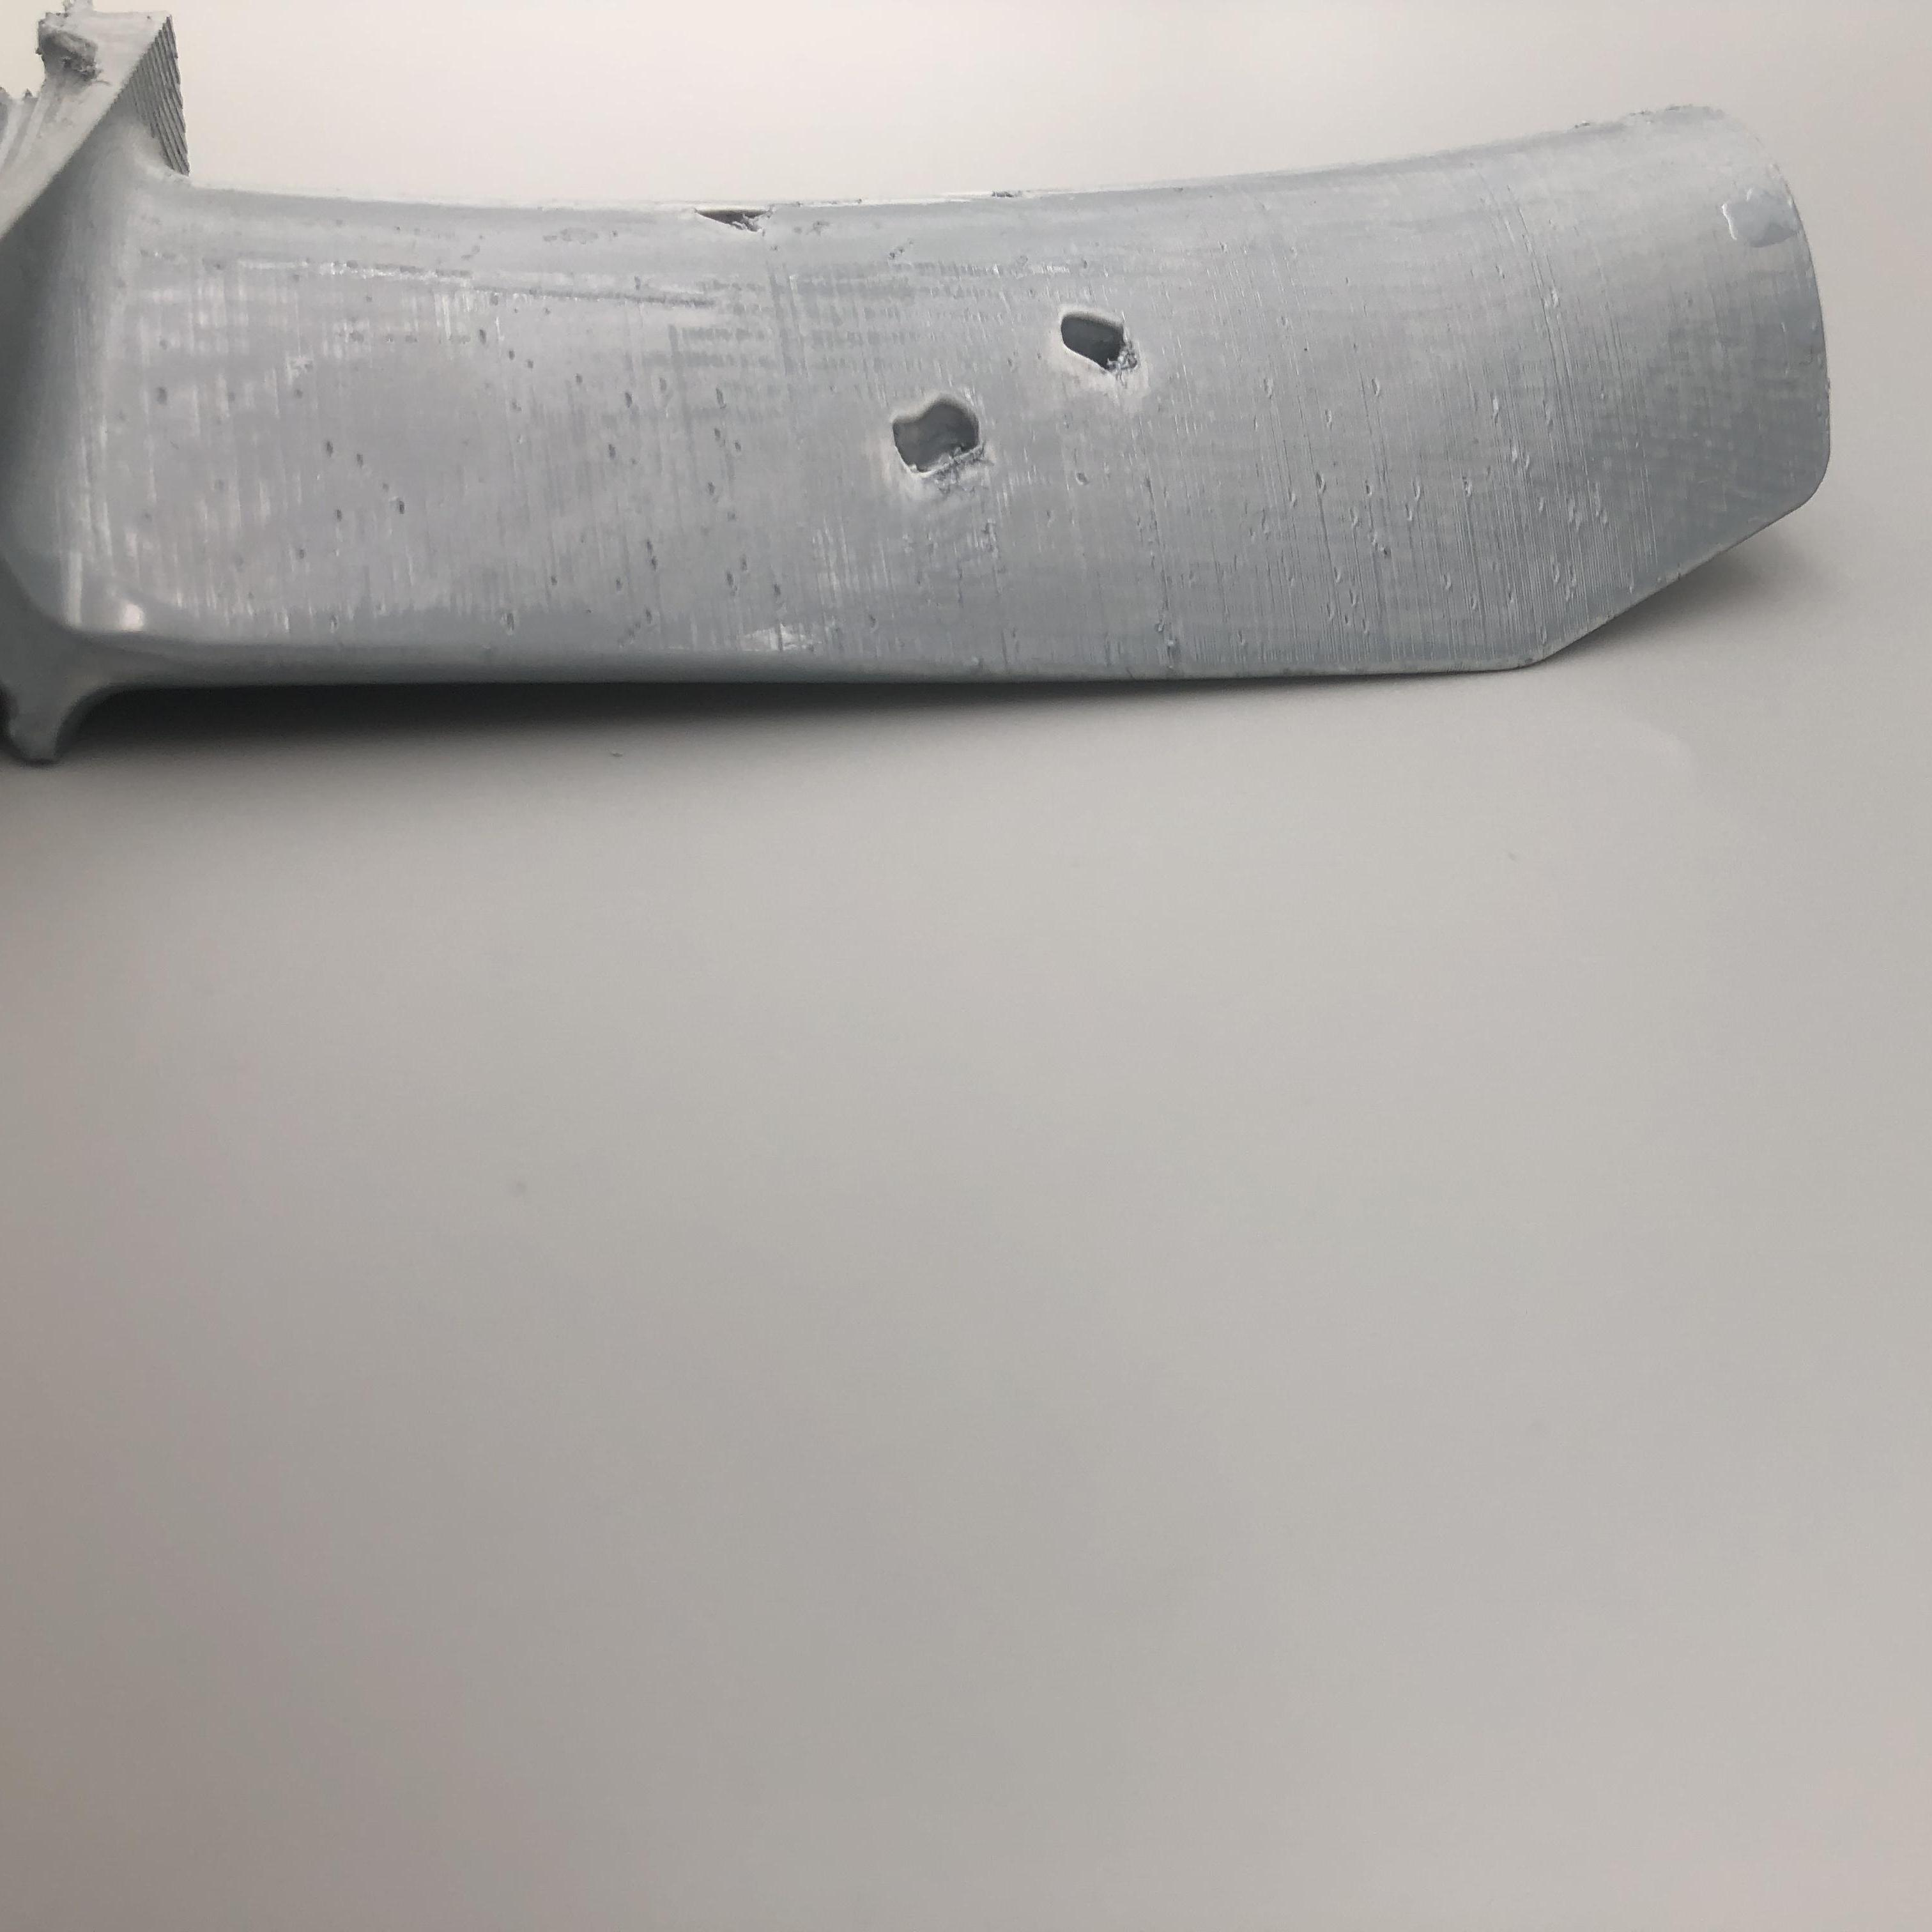breakdown: (902, 283, 1173, 495), (690, 193, 842, 269)
